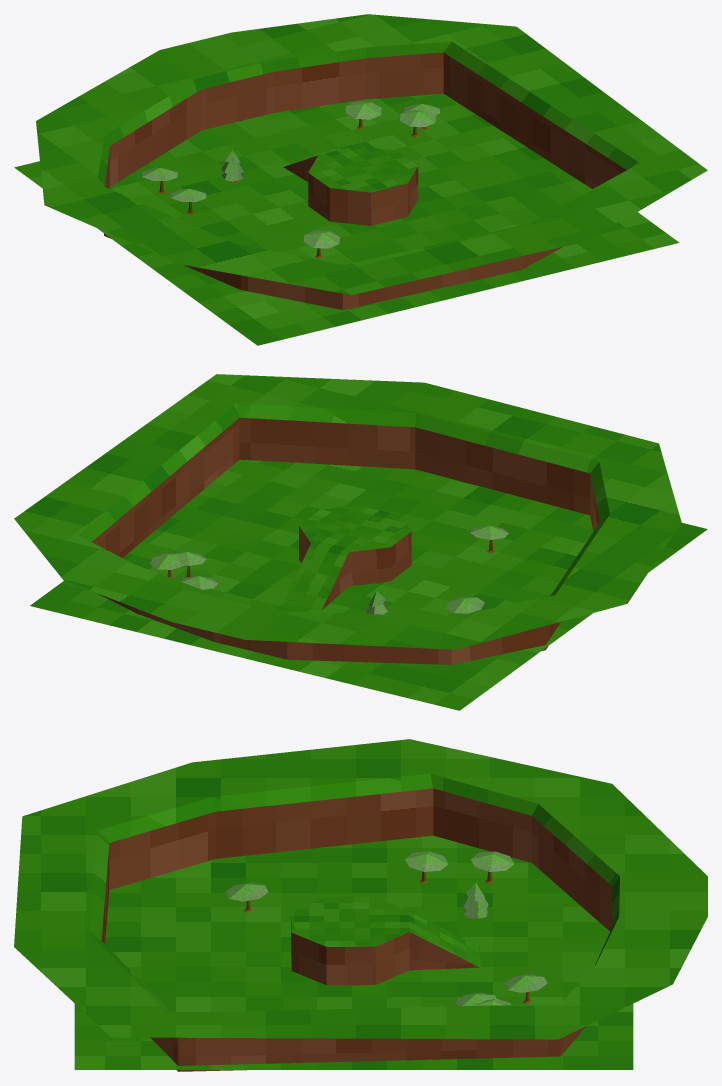
3 renders of one model, top to bottom at view 1: azimuth 30°, elevation 25°; view 2: azimuth 150°, elevation 25°; view 3: azimuth 270°, elevation 25°, orthographic. The views are drawn at different scales.
Visible parts, largest first — view 1: Environment, Ground, Env_Center, Tree.003, Tree.005, Tree.004; view 2: Environment, Ground, Env_Center; view 3: Environment, Ground, Env_Center, Tree, Tree.001, Tree.005, Tree.003, Tree.006.
Part boxes in pixels (x1=…): Environment: x1=36, y1=14, x2=707, y2=309; Ground: x1=14, y1=93, x2=679, y2=345; Env_Center: x1=283, y1=146, x2=418, y2=225; Tree.003: x1=345, y1=101, x2=381, y2=129; Tree.005: x1=303, y1=230, x2=339, y2=258; Tree.004: x1=400, y1=110, x2=435, y2=137; Environment: x1=14, y1=374, x2=681, y2=664; Ground: x1=30, y1=459, x2=707, y2=710; Env_Center: x1=284, y1=504, x2=411, y2=610; Environment: x1=14, y1=739, x2=707, y2=1071; Ground: x1=74, y1=835, x2=633, y2=1069; Env_Center: x1=291, y1=897, x2=480, y2=985; Tree: x1=405, y1=851, x2=448, y2=883; Tree.001: x1=470, y1=851, x2=513, y2=883; Tree.005: x1=225, y1=882, x2=268, y2=912; Tree.003: x1=504, y1=974, x2=547, y2=1003; Tree.006: x1=463, y1=883, x2=488, y2=919.
Bounding box in the file's own units: 255 × 36.69 × 248.
2 materials, 2 textured.
